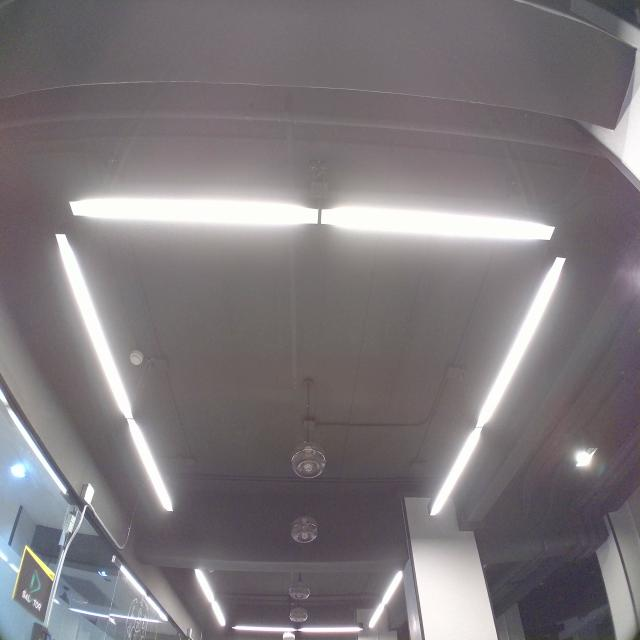lamp2_on: (414, 258, 579, 523), (47, 224, 185, 519), (63, 192, 563, 254)
